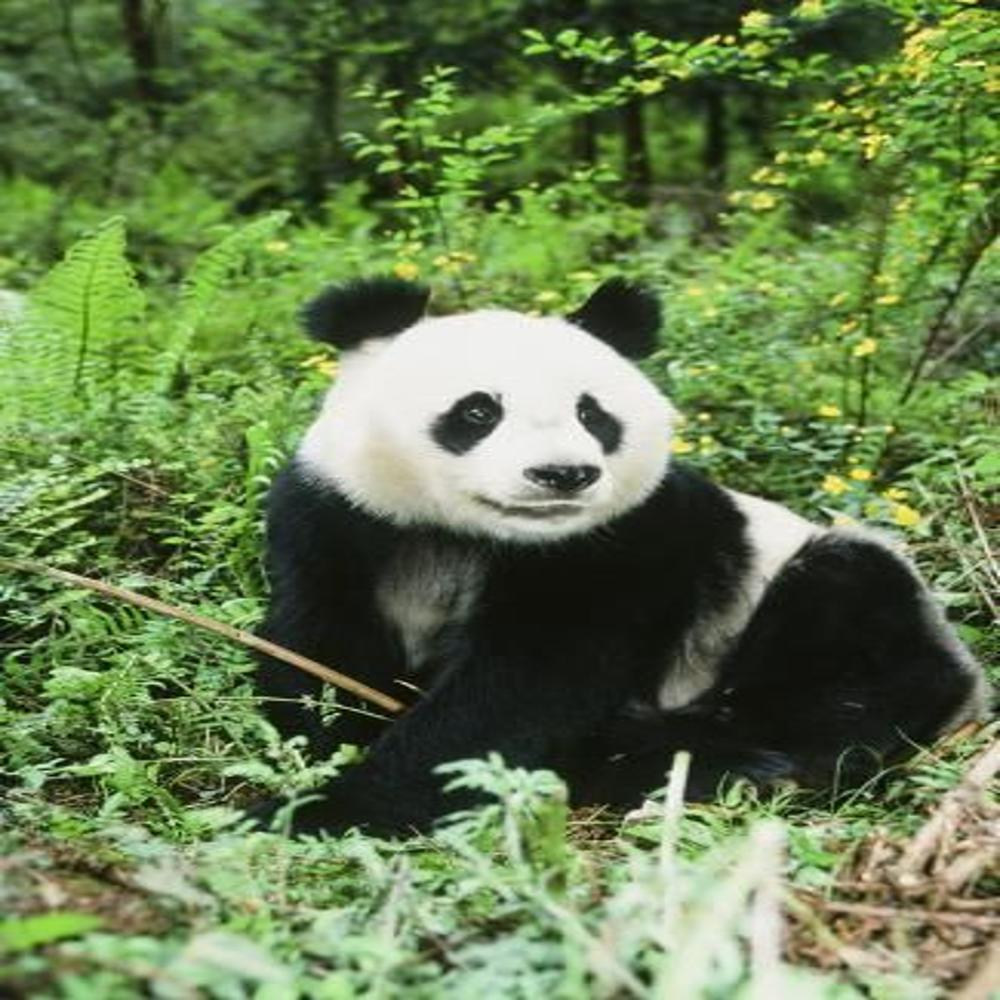panda: (268, 270, 976, 817)
